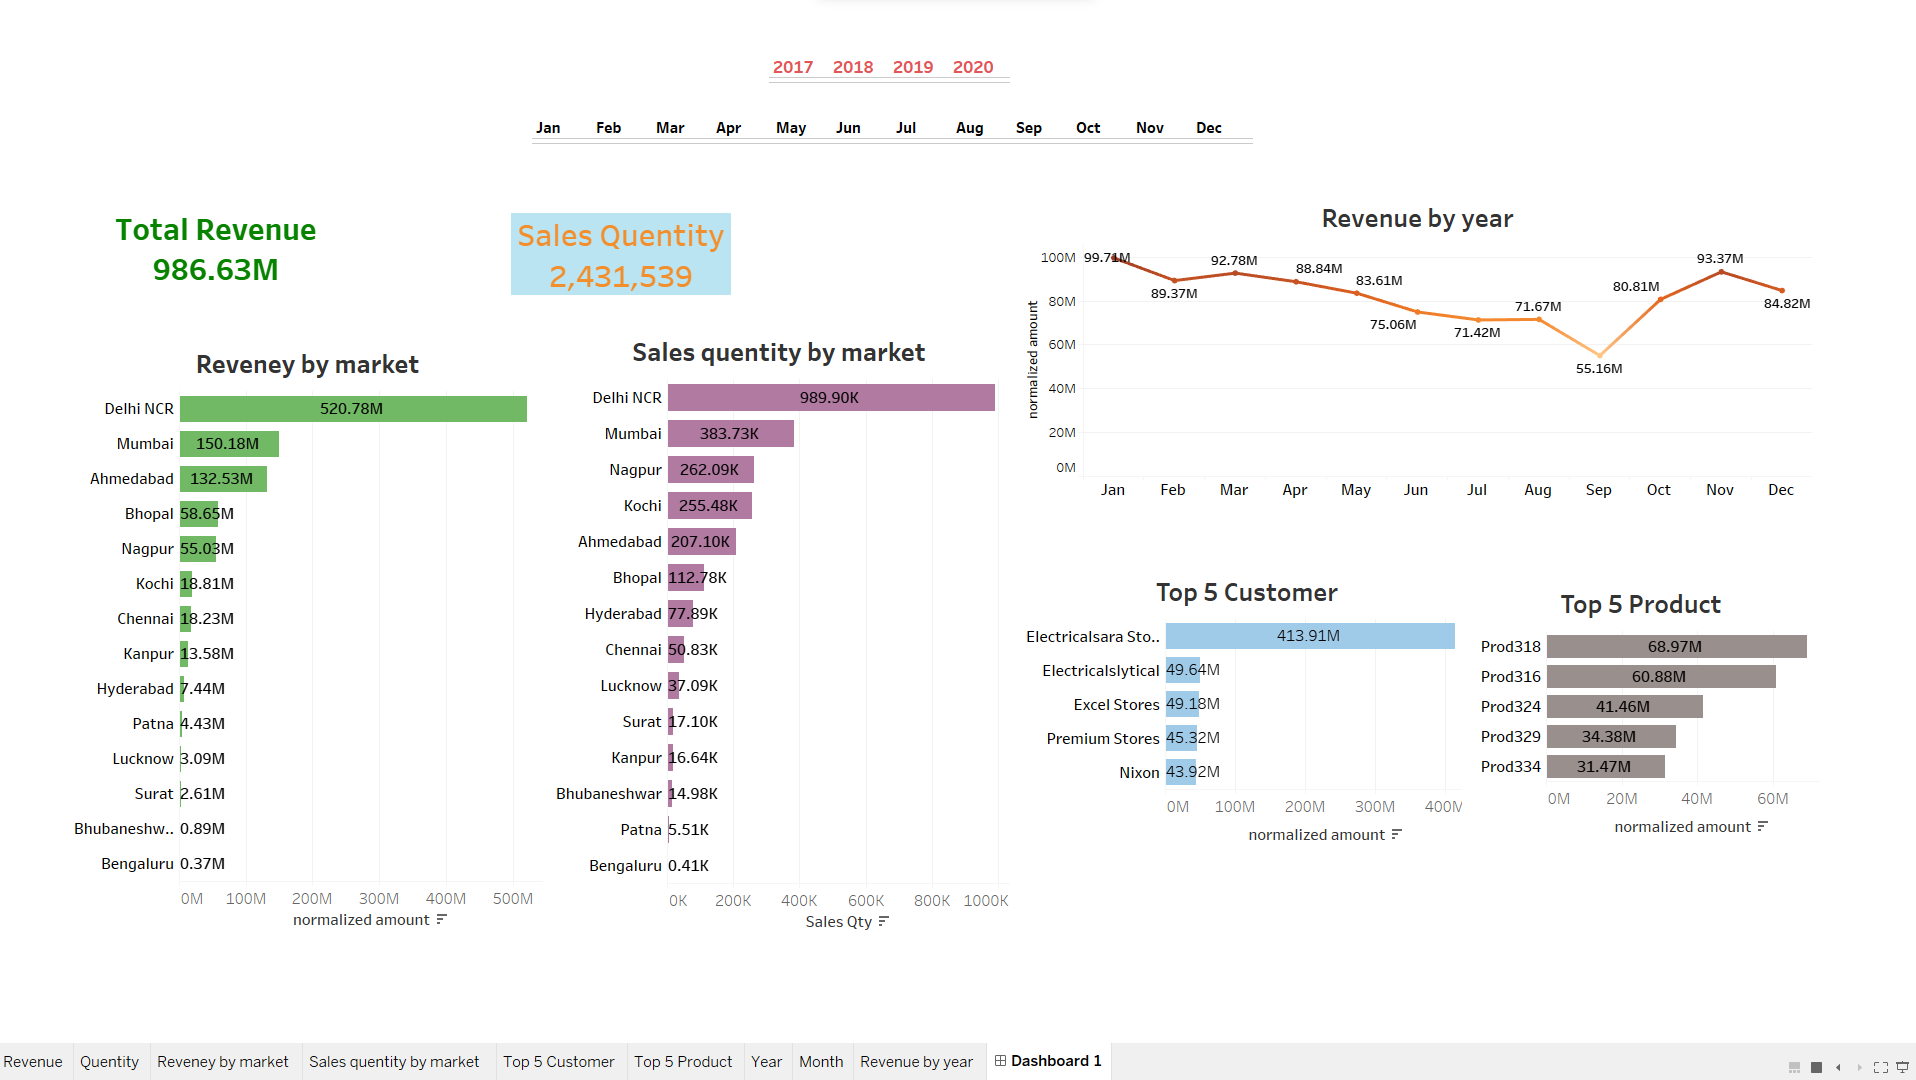

This screenshot's page, from the dashboard's own definition file:
{"tool":"tableau","page":{"name":"Dashboard 1","canvas":[1800,1000],"ordinal":0},"visuals":[{"type":"worksheet","title":"Year","mark":"Automatic","cols":["cy_date"],"box":[713,20,307,70]},{"type":"worksheet","title":"Month","mark":"Automatic","cols":["cy_date"],"box":[476,81,763,75]},{"type":"worksheet","title":"Revenue","mark":"Automatic","box":[42,162.2,370.5,143.3]},{"type":"worksheet","title":"Revenue by year","mark":"Automatic","rows":["Calculation_614459934434082817"],"cols":["cy_date"],"box":[967,175,789,305]},{"type":"worksheet","title":"Quentity","mark":"Automatic","box":[454.5,176.7,346.5,118.9]},{"type":"worksheet","title":"Sales quentity by market","mark":"Automatic","rows":["markets_name"],"cols":["sales_qty"],"box":[490.5,309,463.5,668]},{"type":"worksheet","title":"Top 5 Customer","mark":"Automatic","rows":["custmer_name"],"cols":["Calculation_614459934434082817"],"box":[969,549,444,317]},{"type":"worksheet","title":"Top 5 Product","mark":"Automatic","rows":["product_code"],"cols":["Calculation_614459934434082817"],"box":[1406,561,358,298]}]}

Visuals, with their boxes on the page's 1800x1000 design canvas (x1, y1, x2, y2). These are canvas units, not pixel positions in the 1916x1080 screenshot, which may show the page scaled, cropped or inside an application window:
"Year" worksheet: crop(713, 20, 1020, 90)
"Month" worksheet: crop(476, 81, 1239, 156)
"Revenue" worksheet: crop(42, 162, 412, 306)
"Revenue by year" worksheet: crop(967, 175, 1756, 480)
"Quentity" worksheet: crop(454, 177, 801, 296)
"Sales quentity by market" worksheet: crop(490, 309, 954, 977)
"Top 5 Customer" worksheet: crop(969, 549, 1413, 866)
"Top 5 Product" worksheet: crop(1406, 561, 1764, 859)
